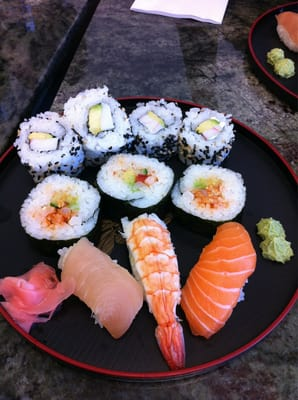sushi: (248, 2, 298, 102)
